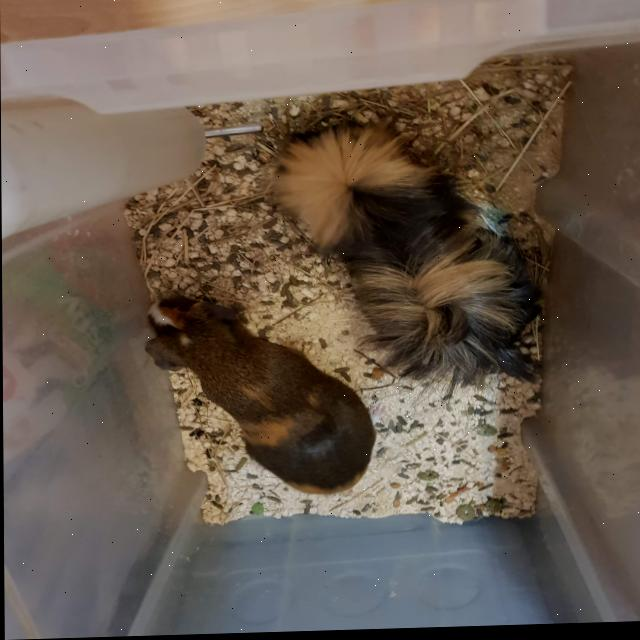guinea pig: (269, 119, 547, 393), (145, 291, 376, 501)
